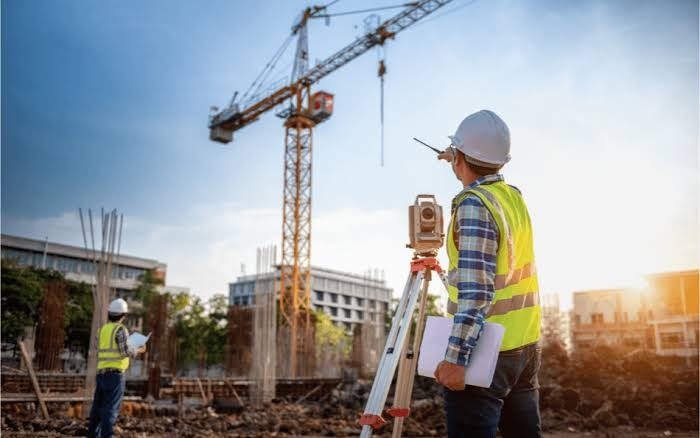crane: (177, 5, 440, 396)
hardhat: (445, 110, 522, 171), (100, 297, 139, 316)
person: (429, 103, 551, 435), (83, 292, 155, 436)
safety_vest: (447, 183, 544, 358), (92, 318, 144, 373)
